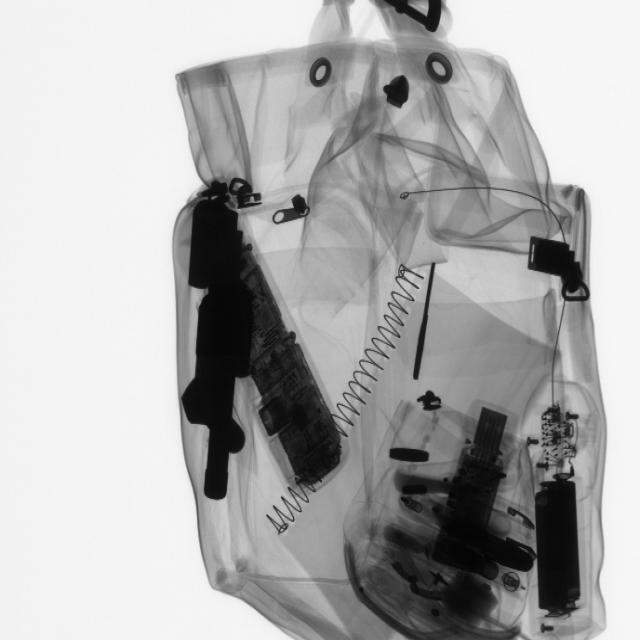GUN: (177, 179, 259, 514)
